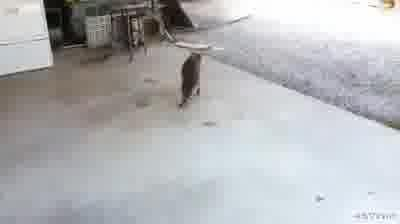raccoon: (177, 51, 203, 109)
